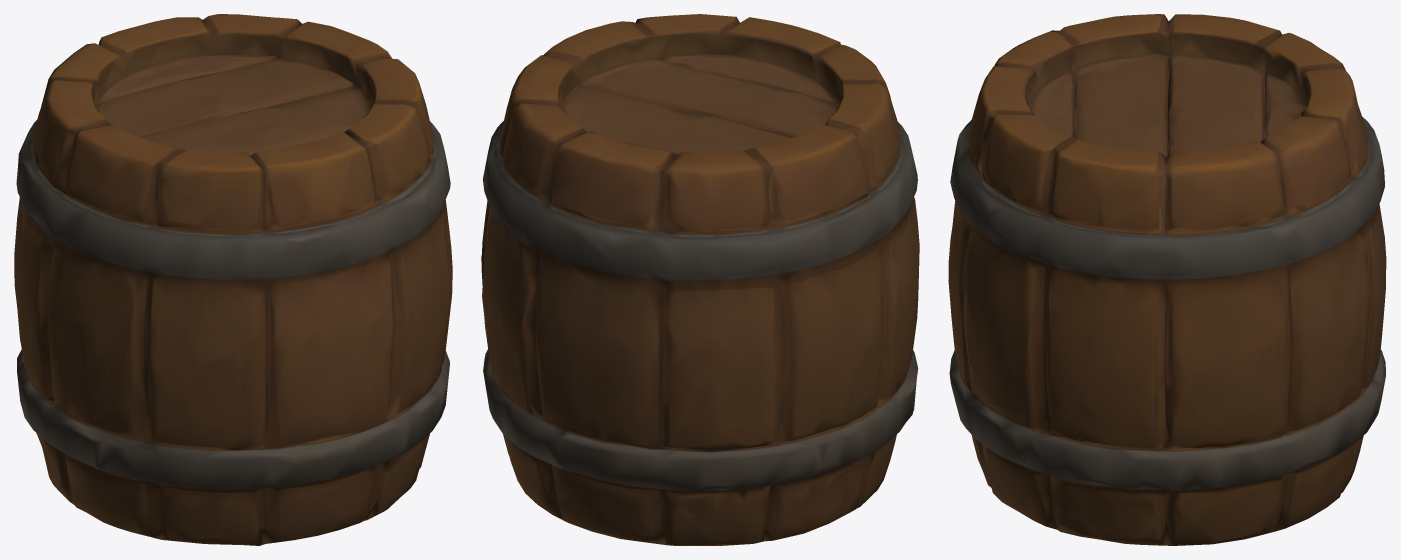
File: barrel.glb
3 views of the same model, side by side, from view 1: azimuth 30°, elevation 25°; view 2: azimuth 150°, elevation 25°; view 3: azimuth 270°, elevation 25° (orthographic).
Visible parts, largest first — view 1: tripo_node_8b6ea161-74bc-4d5f-9b46-5690ba76fa84; view 2: tripo_node_8b6ea161-74bc-4d5f-9b46-5690ba76fa84; view 3: tripo_node_8b6ea161-74bc-4d5f-9b46-5690ba76fa84.
Boxes of the visible parts, x1,y1,x2,y2 form: tripo_node_8b6ea161-74bc-4d5f-9b46-5690ba76fa84: (14,14,452,545); tripo_node_8b6ea161-74bc-4d5f-9b46-5690ba76fa84: (481,14,919,545); tripo_node_8b6ea161-74bc-4d5f-9b46-5690ba76fa84: (948,14,1386,545).
Size of the model in its own units: 1 by 0.9568 by 0.9972.
1 material, 1 textured.
